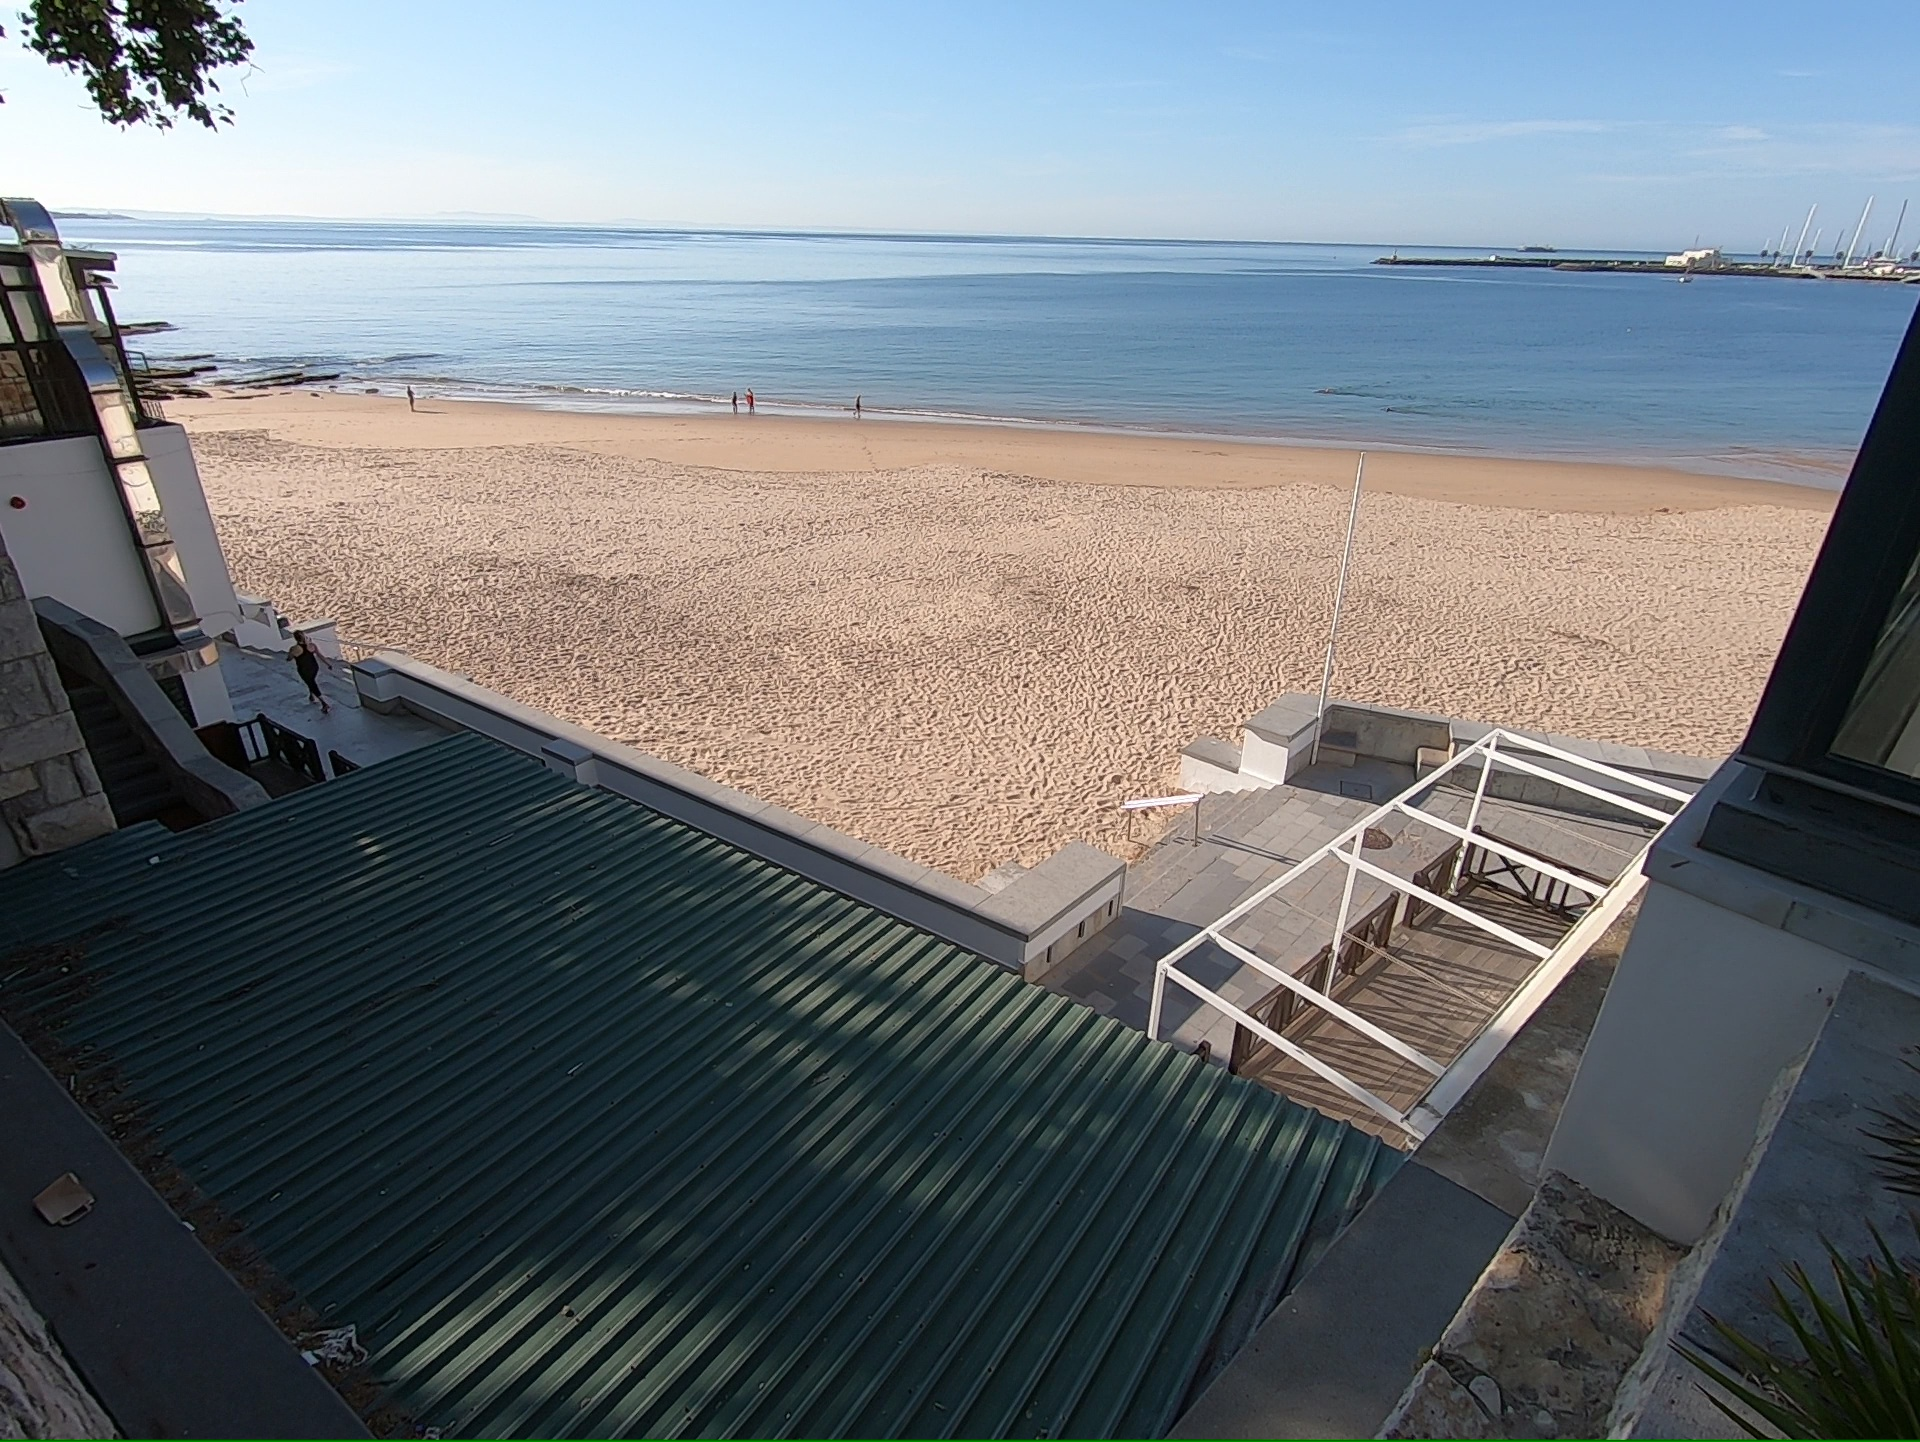person: (285, 625, 333, 716), (743, 388, 757, 415), (406, 385, 417, 411), (852, 394, 863, 418), (731, 390, 738, 414)
